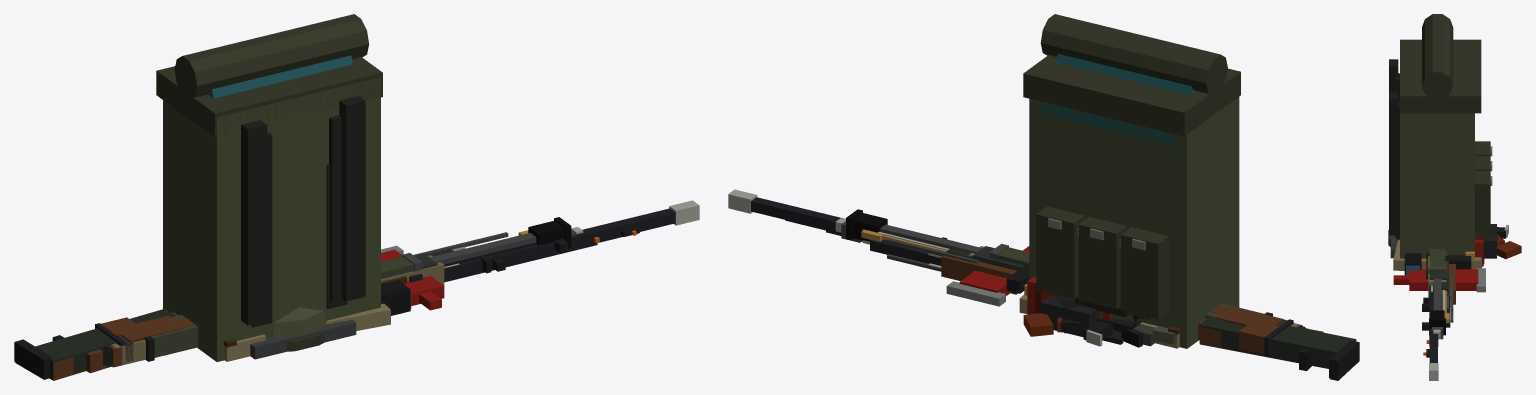
Rendered from items.glb.
3 views of the same model, side by side, from view 1: azimuth 30°, elevation 25°; view 2: azimuth 150°, elevation 25°; view 3: azimuth 270°, elevation 25° (orthographic). The views are drawn at different scales.
Parts seen in each view (by area): view 1: ITEM_MilitaryRuck, ITEM_Sniper, ITEM_HikingPack, ITEM_Flamethrower, ITEM_Shotgun, ITEM_Rpk, ITEM_MilitaryHelmet, ITEM_CargoPants, ITEM_ArmorPlate, ITEM_Bullpup, ITEM_Lmg, ITEM_Axe (+3 smaller); view 2: ITEM_MilitaryRuck, ITEM_Sniper, ITEM_Flamethrower, ITEM_Rpk, ITEM_HikingPack, ITEM_Shotgun, ITEM_Axe, ITEM_Lmg, ITEM_Ak, ITEM_Rifle, ITEM_Uzi; view 3: ITEM_MilitaryRuck, ITEM_Flamethrower, ITEM_Axe, ITEM_Sniper, ITEM_Rpk, ITEM_Lmg, ITEM_Ak, ITEM_CargoPants, ITEM_HikingPack, ITEM_Shotgun, ITEM_ArmorPlate, ITEM_Uzi.
Part boxes in pixels (left/top/right/bottom): ITEM_MilitaryRuck: left=156, top=14, right=382, bottom=361; ITEM_Sniper: left=14, top=200, right=699, bottom=379; ITEM_HikingPack: left=208, top=55, right=352, bottom=318; ITEM_Flamethrower: left=381, top=217, right=571, bottom=278; ITEM_Shotgun: left=52, top=232, right=599, bottom=373; ITEM_Rpk: left=95, top=227, right=583, bottom=346; ITEM_MilitaryHelmet: left=270, top=307, right=326, bottom=351; ITEM_CargoPants: left=223, top=303, right=390, bottom=361; ITEM_ArmorPlate: left=250, top=319, right=356, bottom=359; ITEM_Bullpup: left=144, top=263, right=459, bottom=361; ITEM_Lmg: left=118, top=229, right=576, bottom=362; ITEM_Axe: left=381, top=245, right=444, bottom=310; ITEM_MilitaryRuck: left=1023, top=14, right=1240, bottom=348; ITEM_Sniper: left=728, top=189, right=1359, bottom=379; ITEM_Flamethrower: left=846, top=209, right=1138, bottom=321; ITEM_Rpk: left=835, top=218, right=1293, bottom=356; ITEM_HikingPack: left=1042, top=54, right=1195, bottom=306; ITEM_Shotgun: left=826, top=220, right=1323, bottom=370; ITEM_Axe: left=946, top=246, right=1029, bottom=306; ITEM_Lmg: left=841, top=221, right=1287, bottom=354; ITEM_Ak: left=1023, top=313, right=1305, bottom=336; ITEM_Rifle: left=785, top=220, right=1350, bottom=380; ITEM_Uzi: left=1083, top=321, right=1113, bottom=346; ITEM_MilitaryRuck: left=1389, top=14, right=1492, bottom=258; ITEM_Flamethrower: left=1428, top=237, right=1484, bottom=335; ITEM_Axe: left=1393, top=268, right=1485, bottom=292; ITEM_Sniper: left=1404, top=253, right=1450, bottom=380; ITEM_Rpk: left=1422, top=224, right=1497, bottom=339; ITEM_Lmg: left=1423, top=252, right=1453, bottom=339; ITEM_Ak: left=1422, top=234, right=1521, bottom=311; ITEM_CargoPants: left=1393, top=239, right=1481, bottom=270; ITEM_HikingPack: left=1395, top=73, right=1453, bottom=233; ITEM_Shotgun: left=1426, top=264, right=1455, bottom=346; ITEM_ArmorPlate: left=1390, top=235, right=1397, bottom=258; ITEM_Uzi: left=1497, top=224, right=1508, bottom=238.
Size of the model in its own units: 1.68 by 0.7036 by 0.4265.
